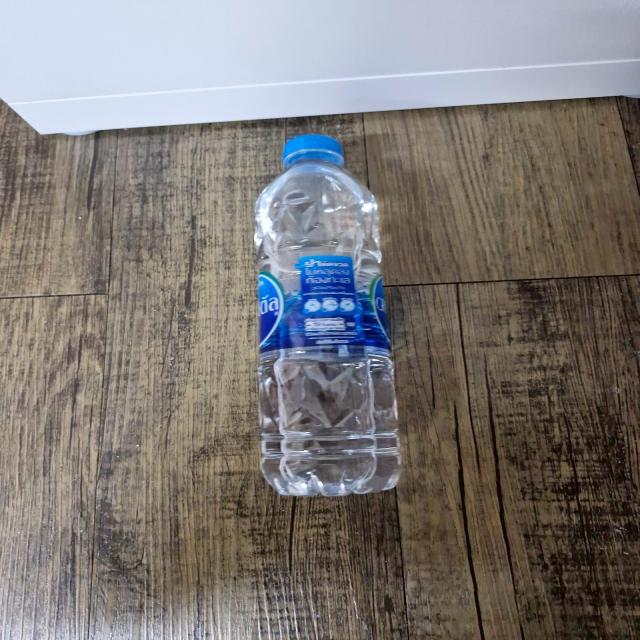plastic bottle: (252, 132, 409, 501)
